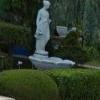Statue: (26, 2, 62, 60)
